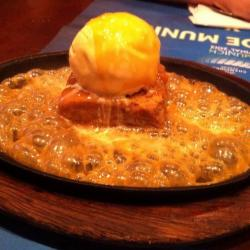icecream: (63, 9, 166, 97)
